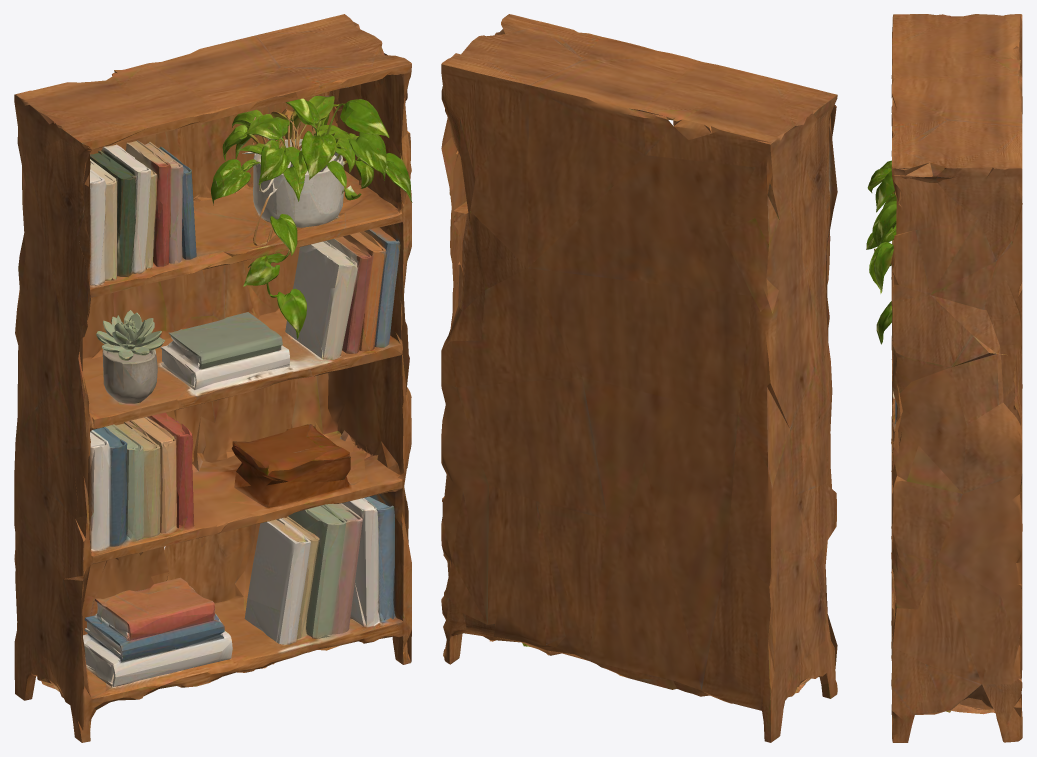
Rendered from w51shelf.glb.
The picture shows the model from 3 angles, left to right: view 1: azimuth 30°, elevation 25°; view 2: azimuth 150°, elevation 25°; view 3: azimuth 270°, elevation 25°; orthographic projection. The views are drawn at different scales.
Parts seen in each view (by area): view 1: output_unwrapped; view 2: output_unwrapped; view 3: output_unwrapped.
Boxes of the visible parts, x1=… form: output_unwrapped: x1=14, y1=14, x2=412, y2=742; output_unwrapped: x1=441, y1=14, x2=837, y2=742; output_unwrapped: x1=866, y1=14, x2=1022, y2=742.
Bounding box in the file's own units: 0.8 × 1.39 × 0.3417.
Materials: 1 (1 with a texture image).
